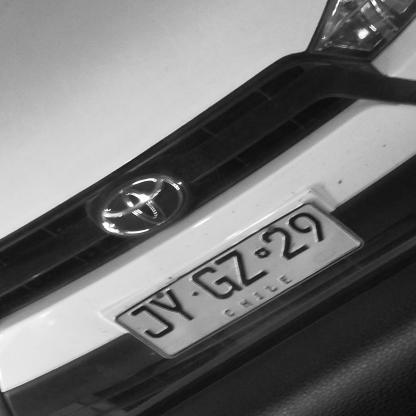Patente: (117, 203, 363, 358)
